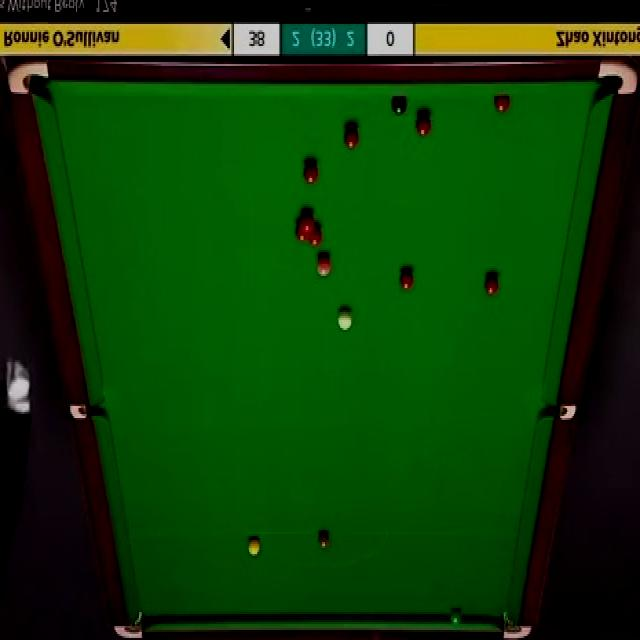black-ball: (392, 95, 408, 117)
brown-ball: (318, 532, 330, 552)
green-ball: (450, 610, 463, 629)
pink-ball: (314, 255, 334, 280)
red-ball: (303, 160, 320, 189), (398, 267, 415, 294), (344, 123, 360, 151), (415, 110, 432, 136), (484, 271, 498, 296), (492, 97, 511, 115), (294, 218, 308, 242), (309, 222, 322, 246), (300, 210, 316, 229)
white-ball: (337, 308, 352, 333)
yellow-ball: (247, 538, 259, 554)
